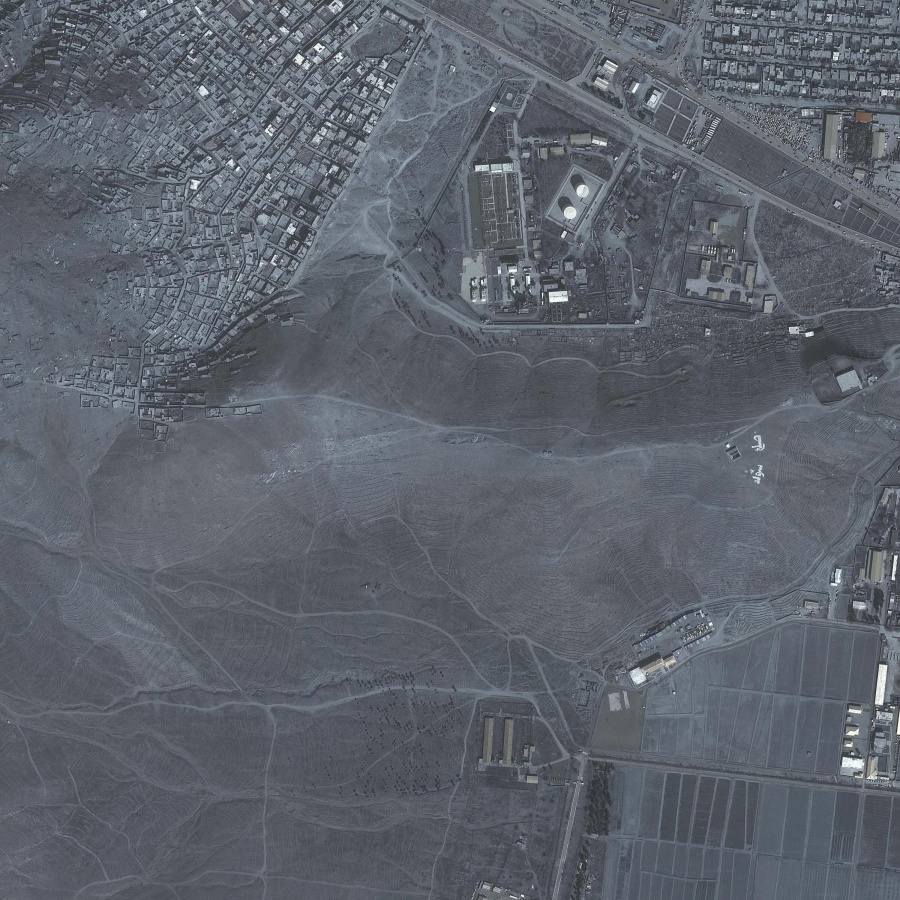PowerPlant: (470, 126, 613, 317)
